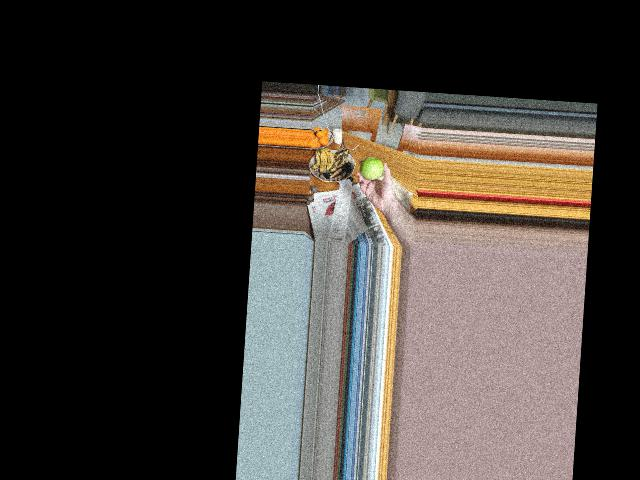apple: (360, 153, 387, 183)
